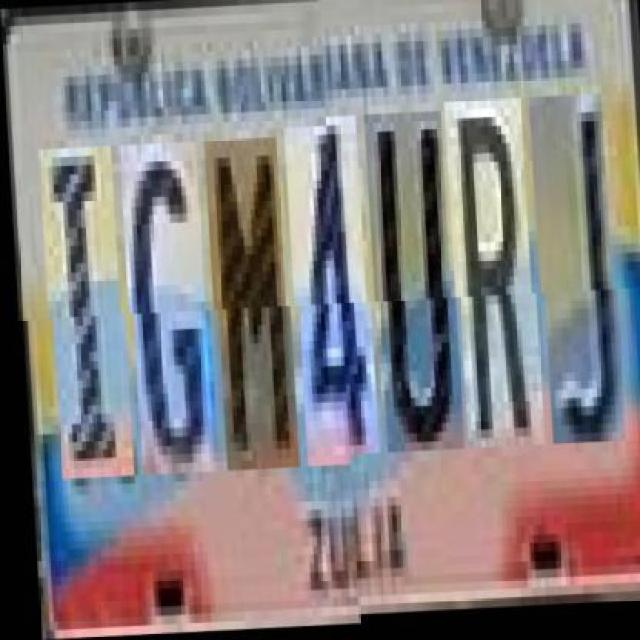4: (287, 127, 375, 468)
g: (121, 143, 213, 475)
i: (41, 146, 128, 479)
j: (532, 110, 620, 458)
m: (205, 140, 293, 472)
r: (447, 111, 541, 462)
u: (367, 125, 459, 466)
